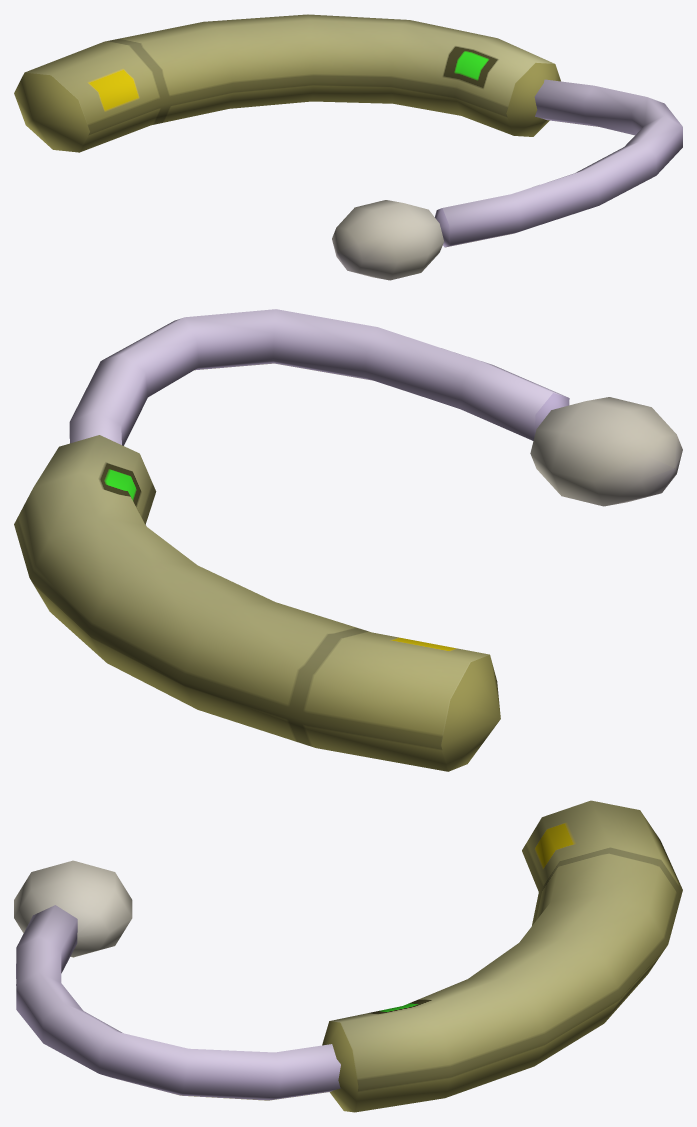
The model's file is HearingAid_Ground.fbx.
The picture shows the model from 3 angles, top to bottom: view 1: azimuth 30°, elevation 25°; view 2: azimuth 150°, elevation 25°; view 3: azimuth 270°, elevation 25°; orthographic projection. The views are drawn at different scales.
Visible parts, largest first — view 1: HearingAid_Ground_export; view 2: HearingAid_Ground_export; view 3: HearingAid_Ground_export.
Boxes of the visible parts, x1,y1,x2,y2 form: HearingAid_Ground_export: (14,14,682,280); HearingAid_Ground_export: (14,309,682,771); HearingAid_Ground_export: (14,800,682,1112).
Bounding box in the file's own units: 0.0773 × 0.0136 × 0.0816.
